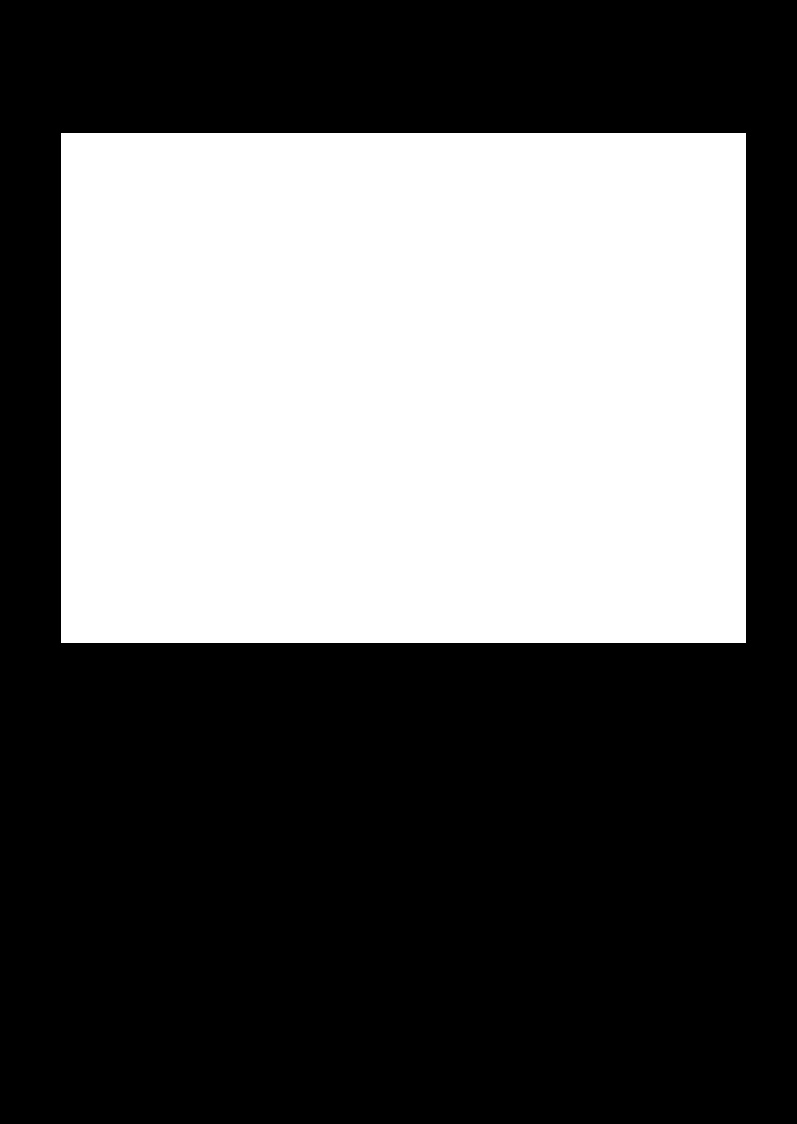table: (61, 133, 745, 642)
